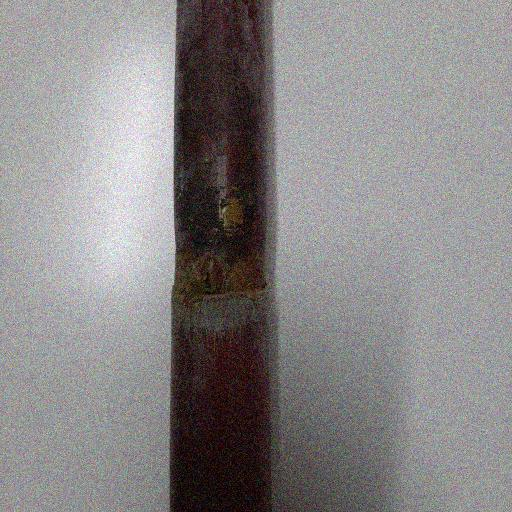Bud: (198, 256, 222, 291)
